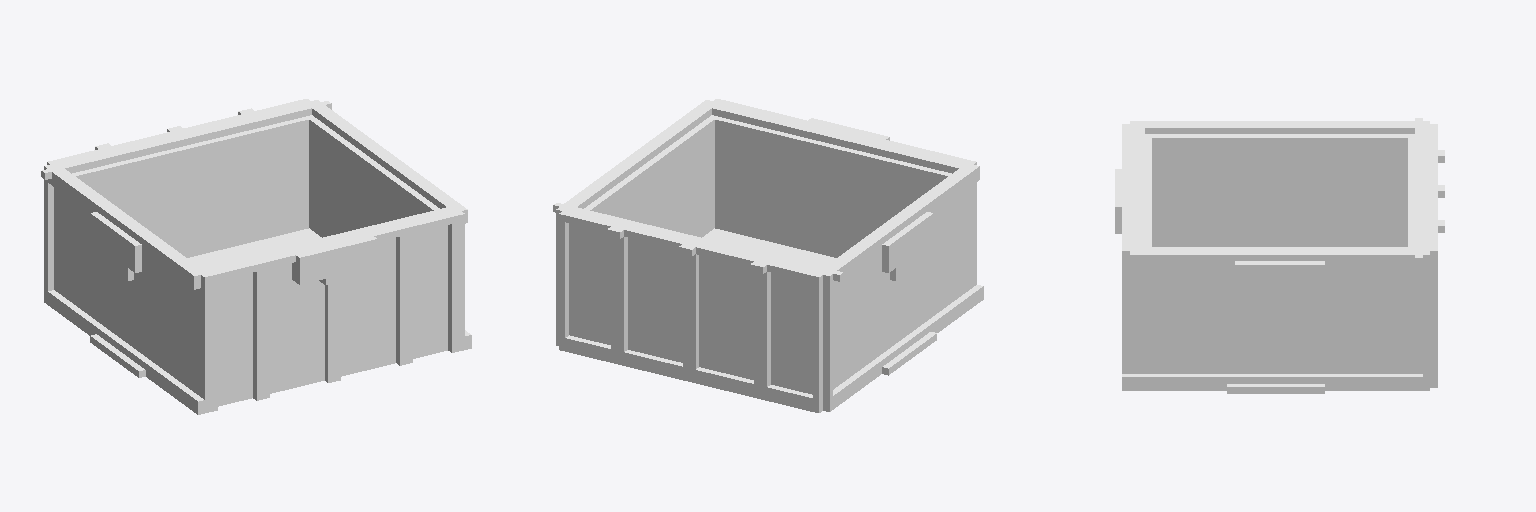
Rendered from Cofre-1.obj.
The picture shows the model from 3 angles: view 1: azimuth 30°, elevation 25°; view 2: azimuth 150°, elevation 25°; view 3: azimuth 270°, elevation 25°; orthographic projection.
Visible parts, largest first — view 1: object 1; view 2: object 1; view 3: object 1.
Boxes of the visible parts, box(x1,y1,x2,y2) form: object 1: box(41, 99, 471, 414); object 1: box(553, 99, 983, 412); object 1: box(1115, 118, 1444, 393).
Size of the model in its own units: 4.4 by 2 by 4.4.